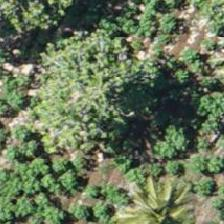coconut_tree: (108, 174, 198, 223)
